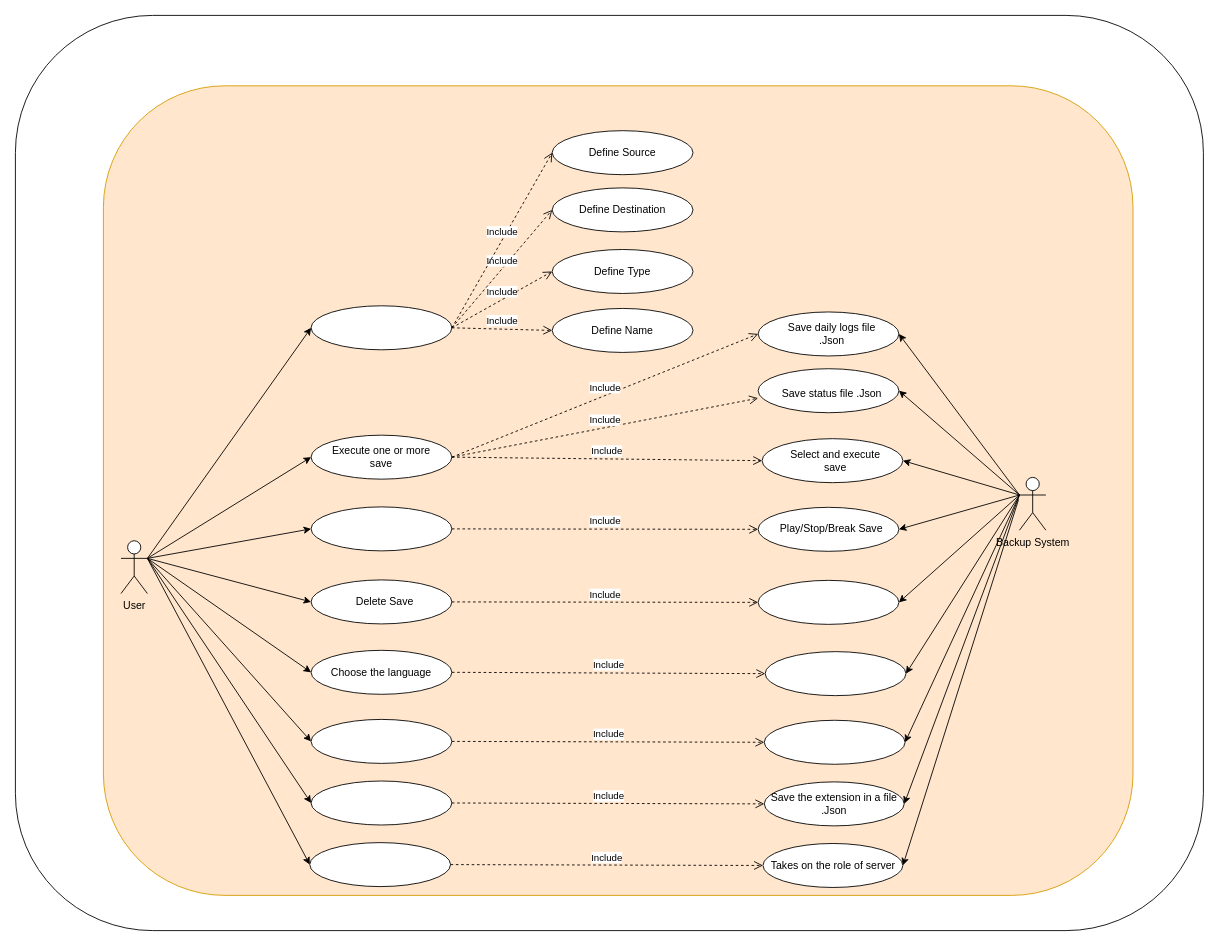
This 1219x946 diagram has some shape labels left out. Each missing label, with the box of its shape:
can connect remotely: (309, 842, 451, 887)
Can Play/Stop/Break Save: (310, 506, 452, 551)
Create Save: (310, 305, 452, 350)
Save the choice in a file .Json: (764, 651, 906, 696)
Save the filters in a file .Json: (763, 719, 905, 764)
Select and delete save: (757, 579, 899, 624)
Select extension to encrypt: (310, 780, 452, 825)
Select Filters: (310, 719, 452, 763)
